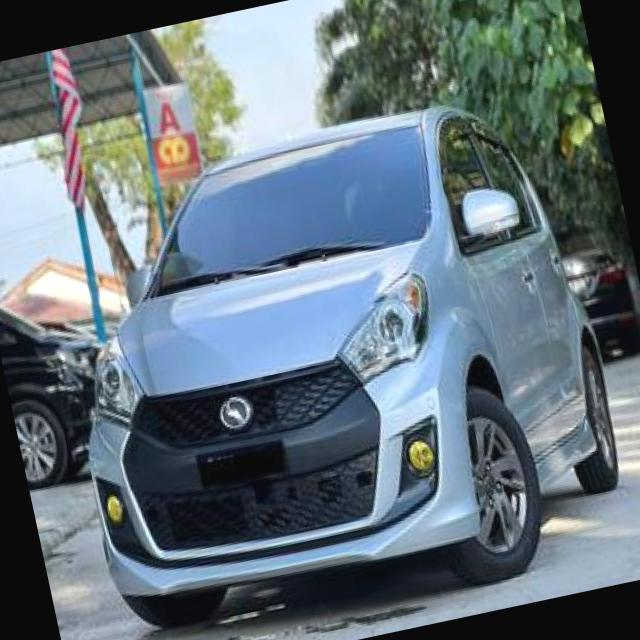PeroduaMyvi: (25, 76, 640, 640)
